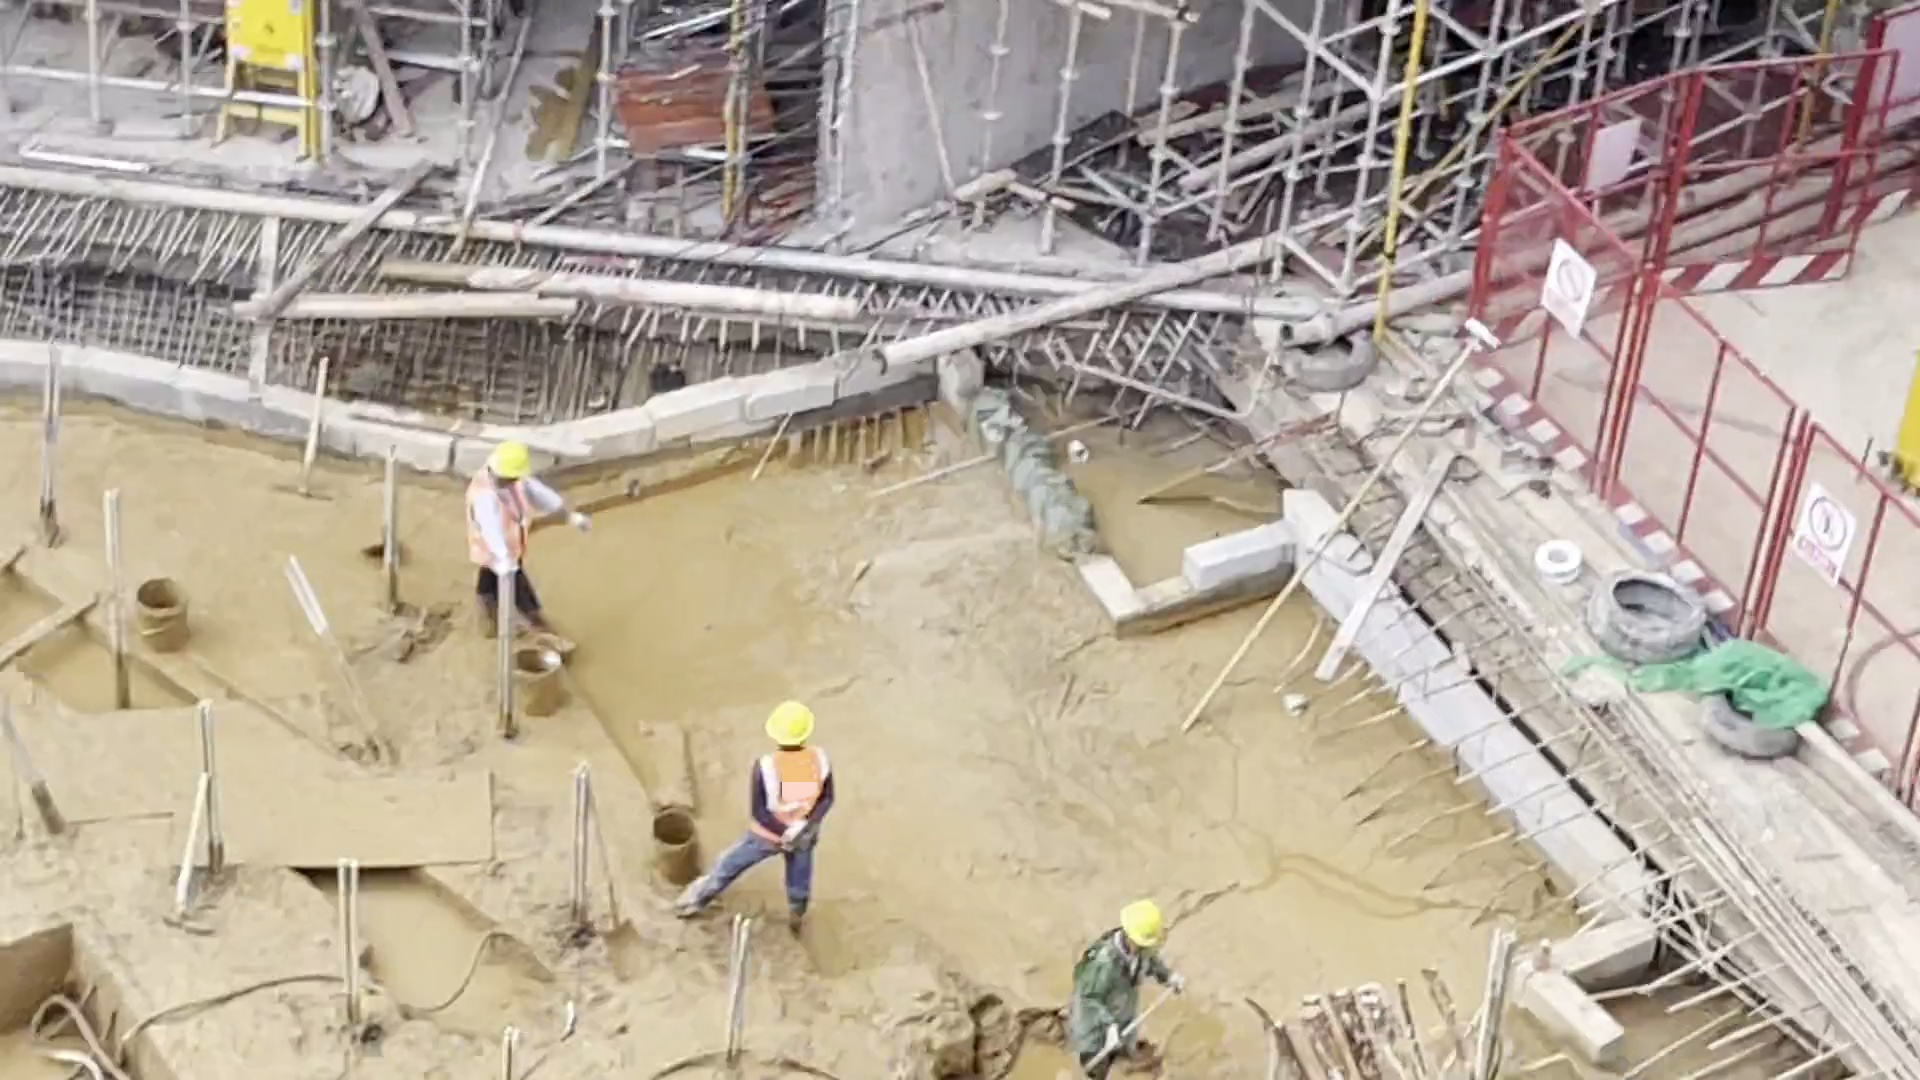ebox: (212, 1, 337, 165)
fence: (1457, 128, 1920, 811), (1482, 46, 1891, 345)
helmet: (1117, 897, 1170, 950), (764, 702, 817, 747), (486, 439, 527, 484)
person: (675, 696, 844, 916), (460, 434, 591, 643), (1064, 897, 1177, 1080)
slogan: (1790, 474, 1859, 593), (1540, 233, 1602, 343)
vest: (748, 743, 826, 843), (464, 472, 533, 569)
